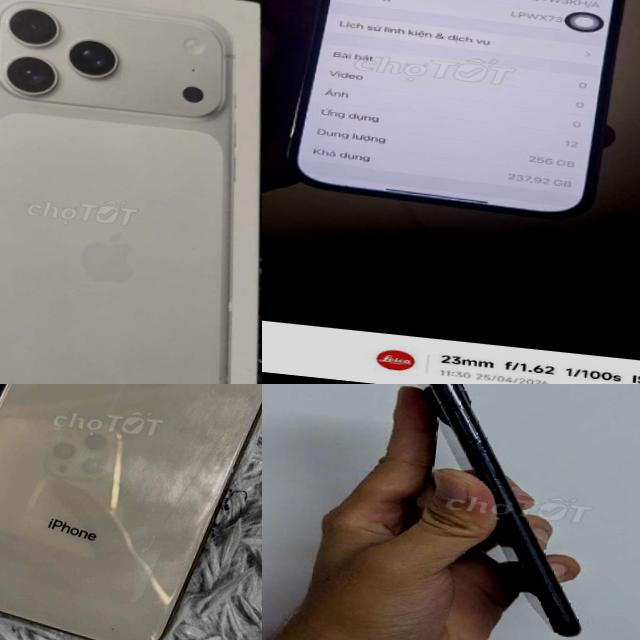gen_11: (422, 384, 580, 636)
gen_14: (283, 0, 640, 246)
gen_17: (0, 0, 262, 384)
gen_x_xs: (0, 384, 262, 640)
scratch: (457, 440, 532, 513), (95, 613, 131, 640)
